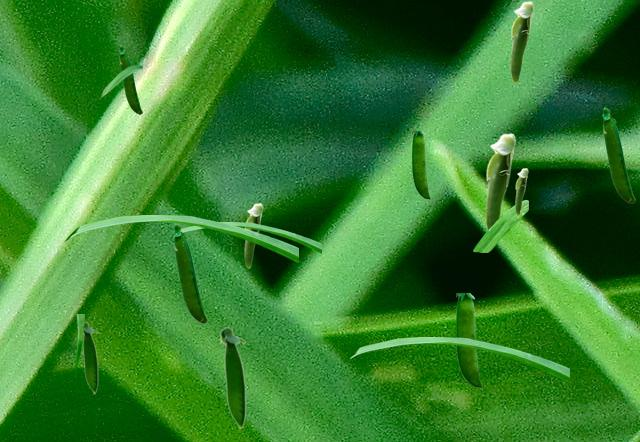pea: (173, 224, 206, 322), (602, 107, 634, 202), (485, 133, 515, 231), (219, 326, 245, 430), (456, 293, 481, 388), (510, 1, 533, 82), (119, 45, 141, 113), (412, 131, 429, 199), (244, 203, 262, 267), (82, 321, 97, 394), (515, 168, 527, 214)
